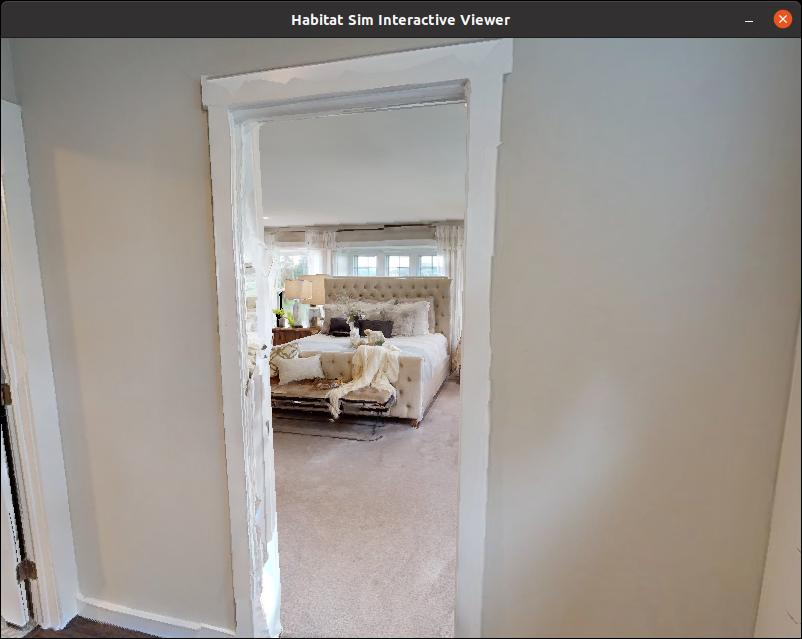door-frame: (188, 41, 515, 639)
